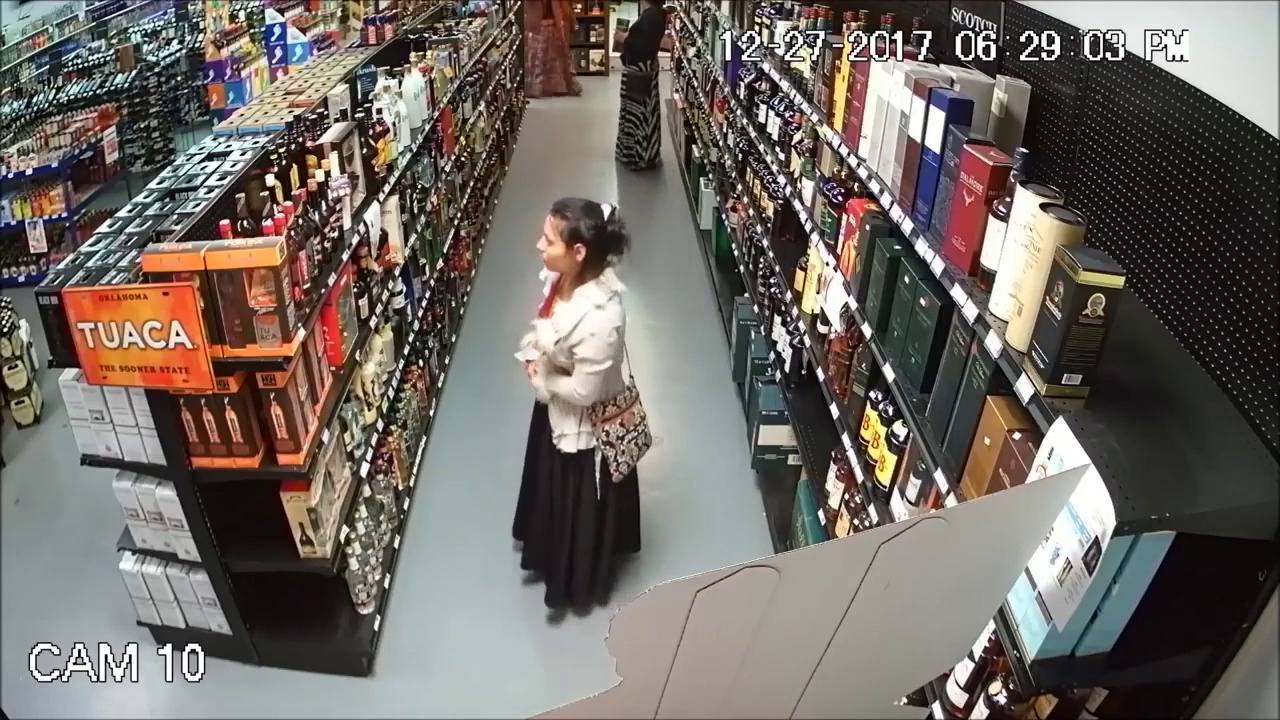face: (532, 209, 578, 278)
